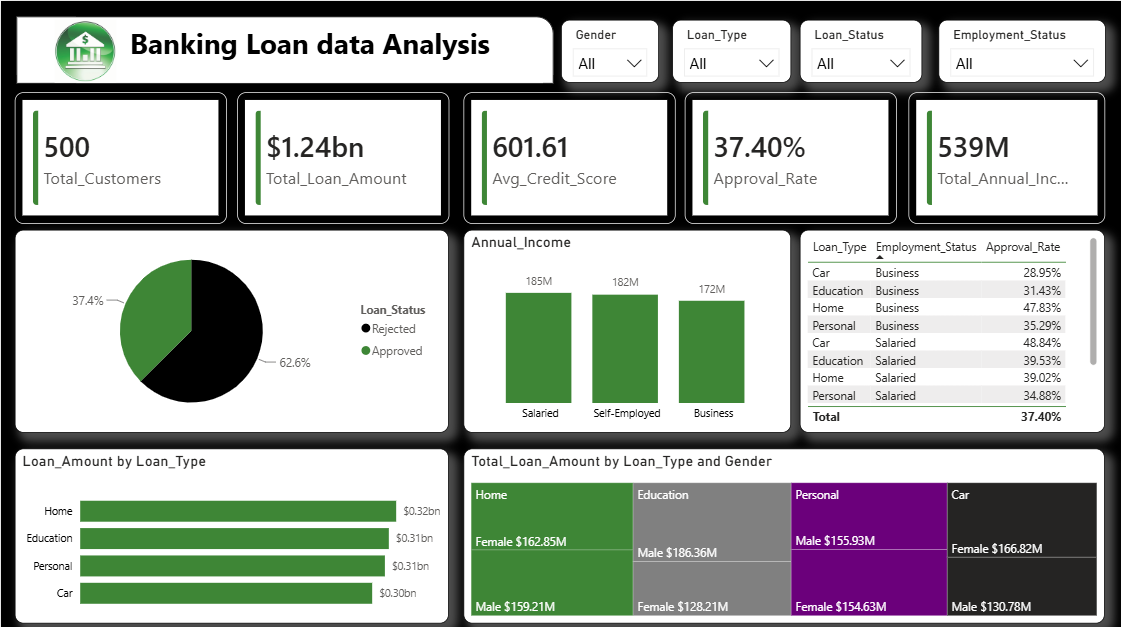

This screenshot's page, from the dashboard's own definition file:
{"tool":"powerbi","page":{"name":"Page 1","canvas":[1280,720],"ordinal":0},"visuals":[{"type":"shape","box":[8,9,632,95],"z":0},{"type":"textbox","box":[87,21,532,72],"z":1000},{"type":"image","box":[16,21,162,72],"z":2000},{"type":"cardVisual","fields":{"Data":["Bank_Loan_Dataset.Total_Customers"]},"box":[16,104,242,150],"z":3000},{"type":"cardVisual","fields":{"Data":["Bank_Loan_Dataset.Total_Loan_Amount"]},"box":[270,104,242,150],"z":4000},{"type":"cardVisual","fields":{"Data":["Bank_Loan_Dataset.Avg_Credit_Score"]},"box":[529,104,242,150],"z":5000},{"type":"cardVisual","fields":{"Data":["Bank_Loan_Dataset.Approval_Rate"]},"box":[782,104,242,150],"z":6000},{"type":"pieChart","fields":{"Category":["Bank_Loan_Dataset.Loan_Status"],"Y":["CountNonNull(Bank_Loan_Dataset.Loan_Status)"]},"box":[16,261,496,232],"z":7000},{"type":"barChart","title":"Loan_Amount by Loan_Type","fields":{"Category":["Bank_Loan_Dataset.Loan_Type"],"Y":["Sum(Bank_Loan_Dataset.Loan_Amount)"]},"box":[16,511,496,200],"z":8000},{"type":"columnChart","title":"Annual_Income","fields":{"Category":["Bank_Loan_Dataset.Employment_Status"],"Y":["Sum(Bank_Loan_Dataset.Annual_Income)"]},"box":[529,261,374,232],"z":9000},{"type":"treemap","fields":{"Group":["Bank_Loan_Dataset.Loan_Type"],"Values":["Bank_Loan_Dataset.Total_Loan_Amount"],"Details":["Bank_Loan_Dataset.Gender"]},"box":[529,511,733,200],"z":10000},{"type":"tableEx","fields":{"Values":["Bank_Loan_Dataset.Loan_Type","Bank_Loan_Dataset.Employment_Status","Bank_Loan_Dataset.Approval_Rate"]},"box":[913,261,349,232],"z":11000},{"type":"cardVisual","fields":{"Data":["Sum(Bank_Loan_Dataset.Annual_Income)"]},"box":[1037,104,225,150],"z":12000},{"type":"slicer","fields":{"Values":["Bank_Loan_Dataset.Gender"]},"box":[640,21,112,72],"z":13000},{"type":"slicer","fields":{"Values":["Bank_Loan_Dataset.Loan_Type"]},"box":[767,21,136,72],"z":14000},{"type":"slicer","fields":{"Values":["Bank_Loan_Dataset.Loan_Status"]},"box":[913,21,140,72],"z":15000},{"type":"slicer","fields":{"Values":["Bank_Loan_Dataset.Employment_Status"]},"box":[1071,21,191,72],"z":16000}]}

Visuals, with their boxes in screenshot pixels (x1, y1, x2, y2), scaled from the page's 1280x720 canvas onto the 1121x627 screenshot:
shape: rect(7, 8, 560, 91)
textbox: rect(76, 18, 542, 81)
image: rect(14, 18, 156, 81)
cardVisual - Bank_Loan_Dataset.Total_Customers: rect(14, 91, 226, 221)
cardVisual - Bank_Loan_Dataset.Total_Loan_Amount: rect(236, 91, 448, 221)
cardVisual - Bank_Loan_Dataset.Avg_Credit_Score: rect(463, 91, 675, 221)
cardVisual - Bank_Loan_Dataset.Approval_Rate: rect(685, 91, 897, 221)
pieChart - Bank_Loan_Dataset.Loan_Status x CountNonNull(Bank_Loan_Dataset.Loan_Status): rect(14, 227, 448, 429)
"Loan_Amount by Loan_Type" barChart: rect(14, 445, 448, 619)
"Annual_Income" columnChart: rect(463, 227, 791, 429)
treemap - Bank_Loan_Dataset.Loan_Type x Bank_Loan_Dataset.Total_Loan_Amount: rect(463, 445, 1105, 619)
tableEx - Bank_Loan_Dataset.Loan_Type x Bank_Loan_Dataset.Employment_Status: rect(800, 227, 1105, 429)
cardVisual - Sum(Bank_Loan_Dataset.Annual_Income): rect(908, 91, 1105, 221)
slicer - Bank_Loan_Dataset.Gender: rect(560, 18, 659, 81)
slicer - Bank_Loan_Dataset.Loan_Type: rect(672, 18, 791, 81)
slicer - Bank_Loan_Dataset.Loan_Status: rect(800, 18, 922, 81)
slicer - Bank_Loan_Dataset.Employment_Status: rect(938, 18, 1105, 81)
